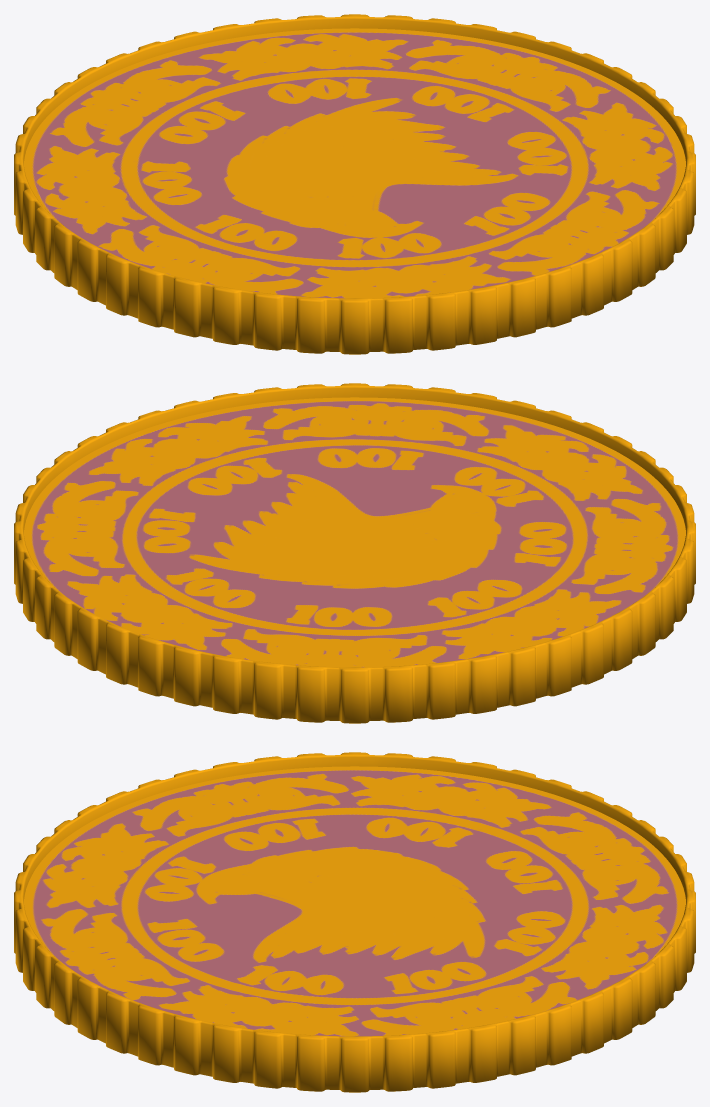
Rendered from Coin_final.obj.
3 views of the same model, one above another, from view 1: azimuth 30°, elevation 25°; view 2: azimuth 150°, elevation 25°; view 3: azimuth 270°, elevation 25° (orthographic).
Parts seen in each view (by area): view 1: Coin_Back_Plane.005, Coin_Rim_Plane.453; view 2: Coin_Back_Plane.005, Coin_Rim_Plane.453; view 3: Coin_Back_Plane.005, Coin_Rim_Plane.453.
Part boxes in pixels (x1,y1,x2,y2): Coin_Back_Plane.005: [24, 28, 685, 298]; Coin_Rim_Plane.453: [14, 14, 695, 354]; Coin_Back_Plane.005: [24, 397, 685, 667]; Coin_Rim_Plane.453: [14, 383, 695, 723]; Coin_Back_Plane.005: [24, 766, 685, 1036]; Coin_Rim_Plane.453: [14, 752, 695, 1092].
Size of what is drawn, in the model's own units: 1.33 by 0.1154 by 1.33.
Materials: 1 (1 with a texture image).
